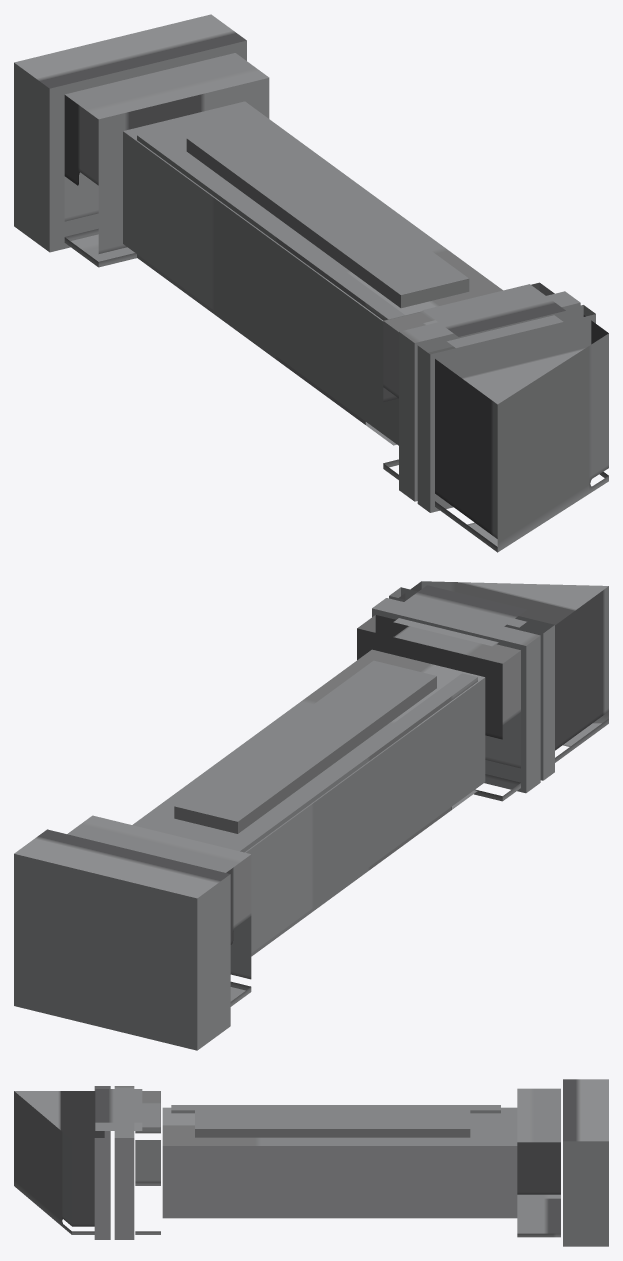
The picture shows the model from 3 angles, top to bottom: view 1: azimuth 30°, elevation 25°; view 2: azimuth 150°, elevation 25°; view 3: azimuth 270°, elevation 25°; orthographic projection. The views are drawn at different scales.
Bounding box in the file's own units: 0.315 × 0.261 × 1.28.
